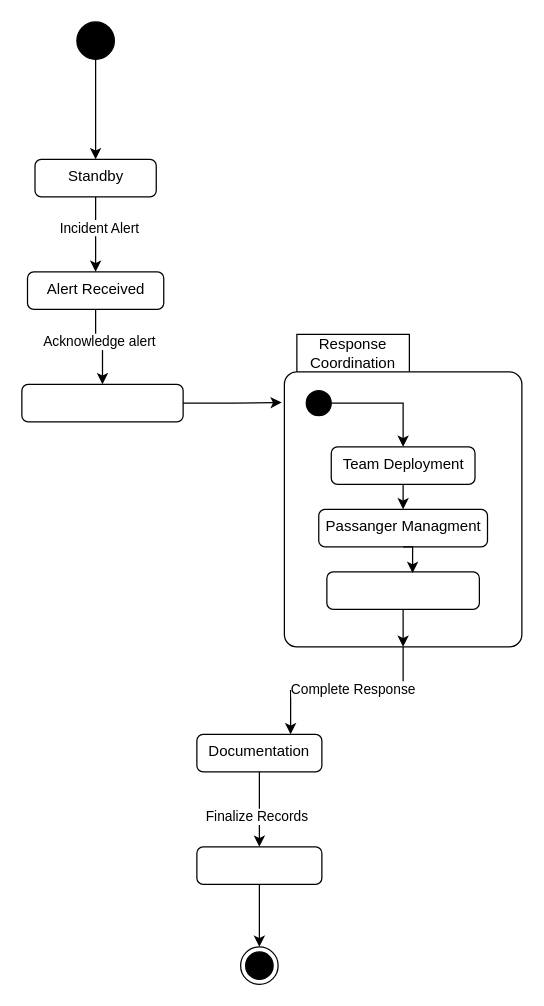
Some shapes in this 544 by 1006 pixel diagram are drawn without their labels. Here are the shapes that lost their labels. From the top down, the centre of each, then its label:
At point 102,402: "Initial Assessment".
At point 402,590: "Service Re-routing".
At point 259,865: "Incident Closure".
